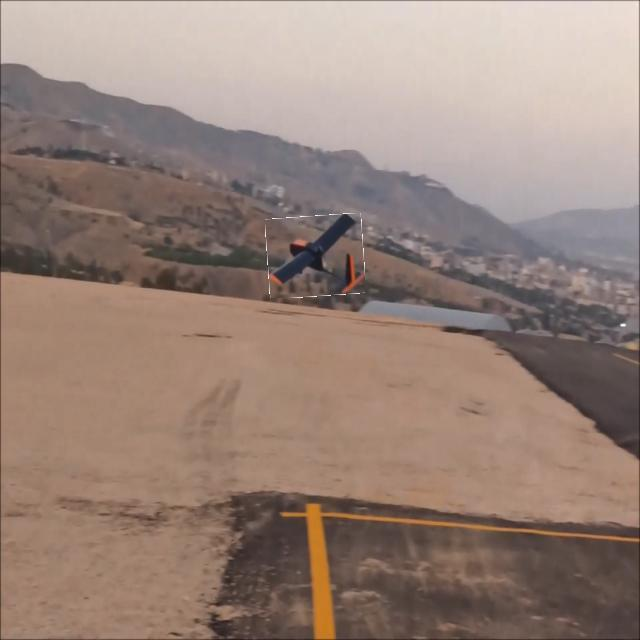UAV: (197, 196, 386, 316)
